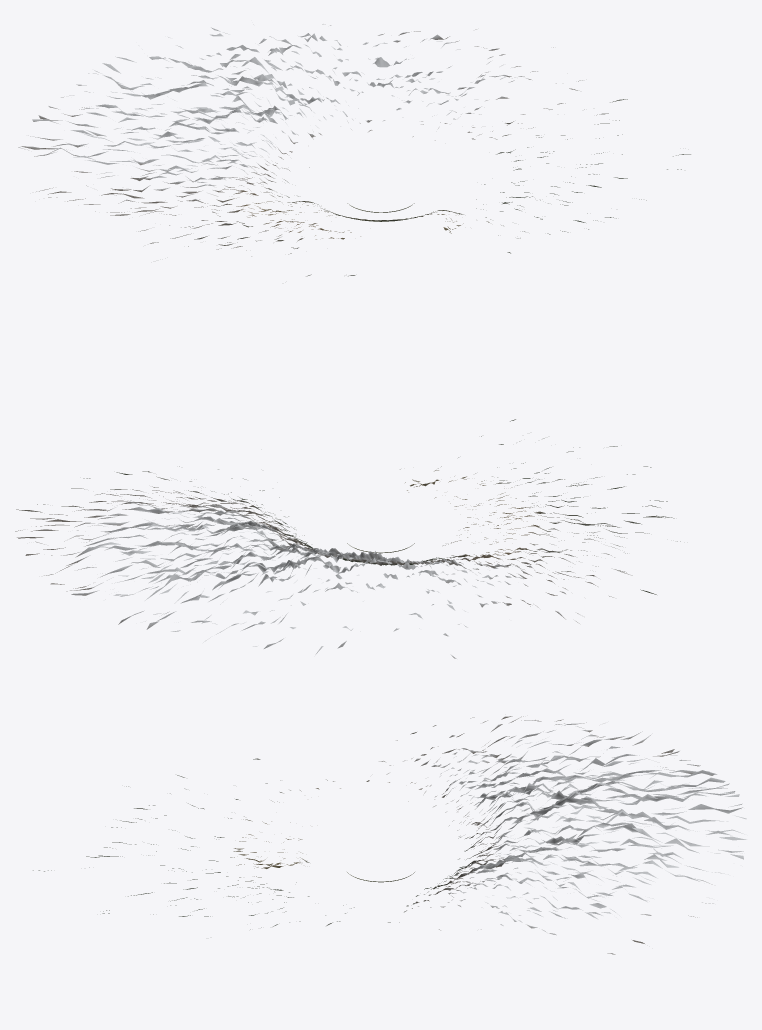
Rendered from mountains.glb.
The picture shows the model from 3 angles, top to bottom: view 1: azimuth 30°, elevation 25°; view 2: azimuth 150°, elevation 25°; view 3: azimuth 270°, elevation 25°; orthographic projection.
Parts seen in each view (by area): view 1: Mountains; view 2: Mountains; view 3: Mountains.
Boxes of the visible parts, bbox=[...] form: Mountains: bbox=[18, 24, 690, 276]; Mountains: bbox=[15, 419, 680, 658]; Mountains: bbox=[33, 716, 746, 954].
Size of the model in its own units: 22000 by 1828 by 22000.
